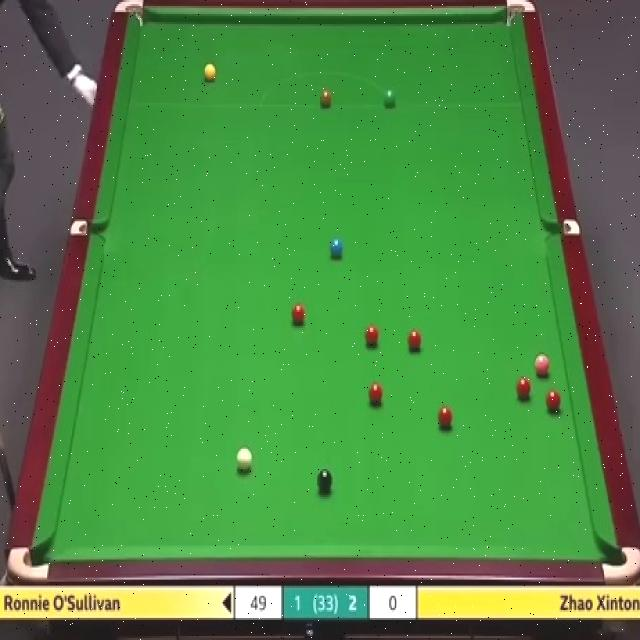black-ball: (316, 466, 332, 493)
blue-ball: (330, 238, 343, 261)
brown-ball: (320, 91, 332, 109)
green-ball: (384, 89, 396, 109)
pink-ball: (535, 353, 551, 379)
red-ball: (545, 388, 562, 413), (436, 406, 453, 431), (408, 327, 423, 352), (364, 325, 379, 349), (369, 383, 384, 407), (516, 378, 532, 400), (292, 302, 306, 324)
white-ball: (236, 445, 253, 473)
yellow-ball: (203, 64, 218, 85)
